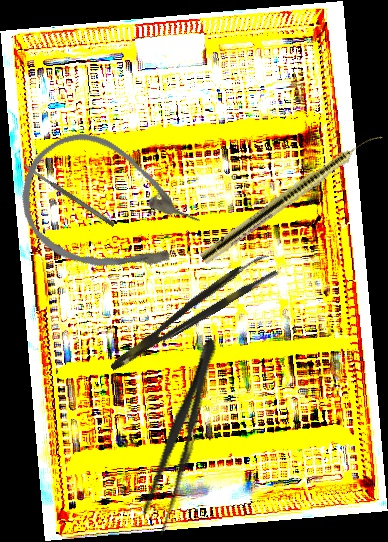Cannula: (1, 115, 215, 304)
Dressing Forceps: (137, 334, 227, 538)
Handpiece: (198, 125, 385, 268)
Spatula Surgical: (22, 162, 116, 228)
Tissue Forceps: (100, 250, 280, 374)
